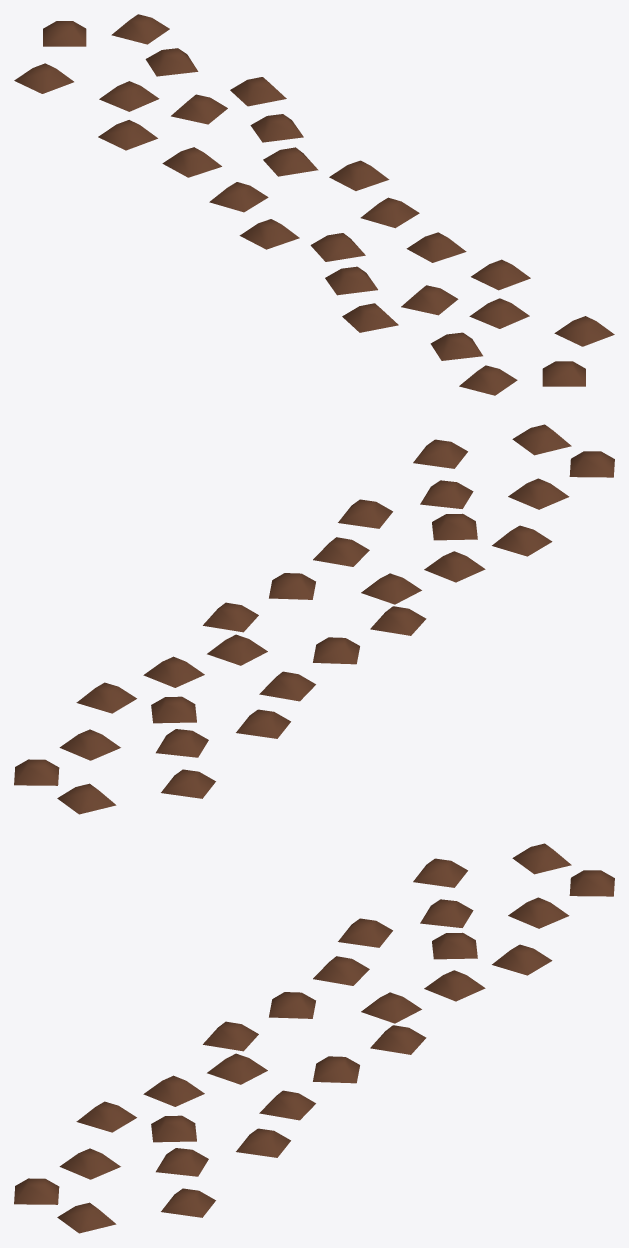
Rendered from Load_Bulk_GBJ_Sm.glb.
3 renders of one model, top to bottom at view 1: azimuth 30°, elevation 25°; view 2: azimuth 150°, elevation 25°; view 3: azimuth 330°, elevation 25°, orthographic.
Visible parts, largest first — view 1: Load_Bulk_GBJ_Sm; view 2: Load_Bulk_GBJ_Sm; view 3: Load_Bulk_GBJ_Sm.
Boxes of the visible parts, x1,y1,x2,y2 form: Load_Bulk_GBJ_Sm: (14,14,614,395); Load_Bulk_GBJ_Sm: (14,424,614,814); Load_Bulk_GBJ_Sm: (14,843,614,1233).
Size of the model in its own units: 2.58 by 0.1698 by 11.79.
Materials: 1 (1 with a texture image).
